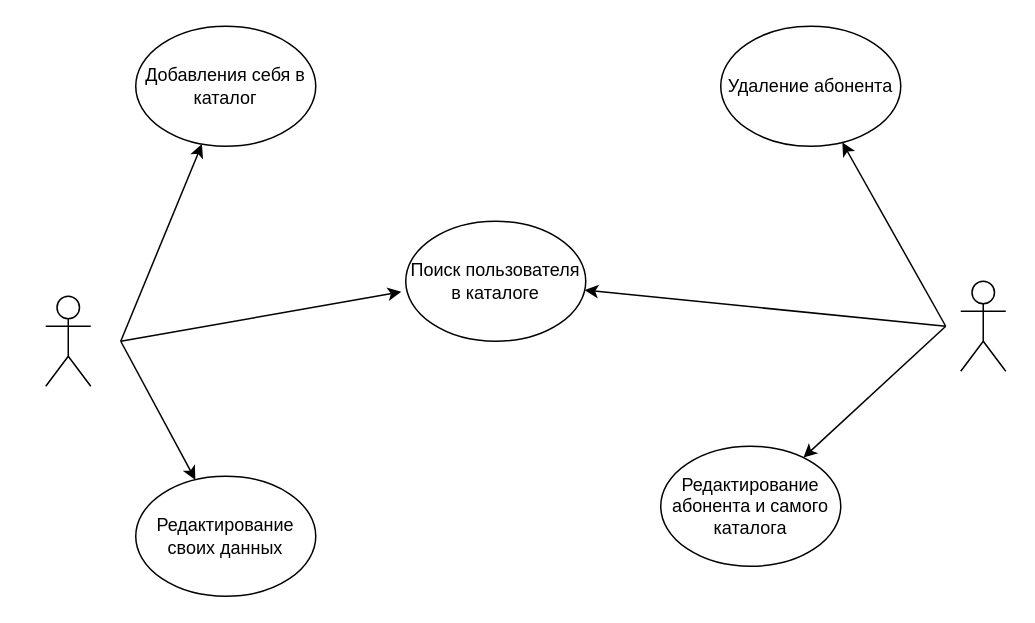
Image size: 1035x623. Some labels were removed from this diagram. Each missing label, with the centre of its shape:
Admin: (982,325)
Subscriber: (67,340)
